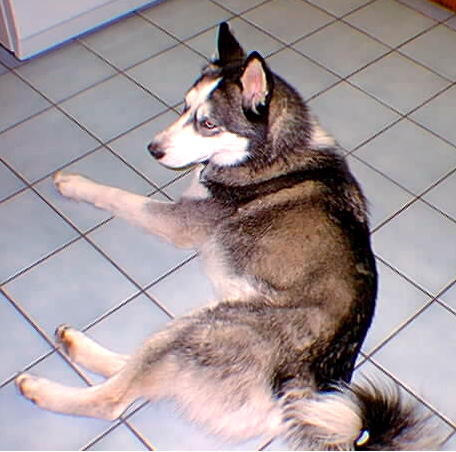dog: (12, 19, 452, 450)
